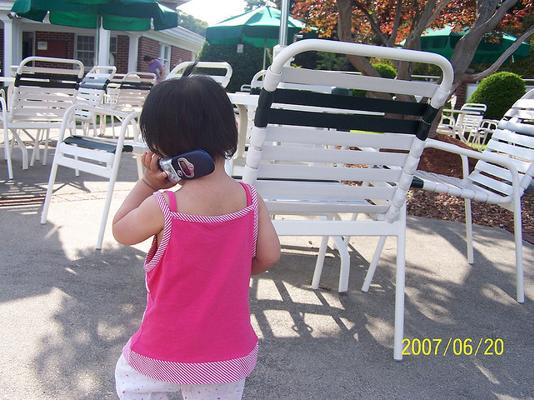person: (113, 75, 281, 400)
